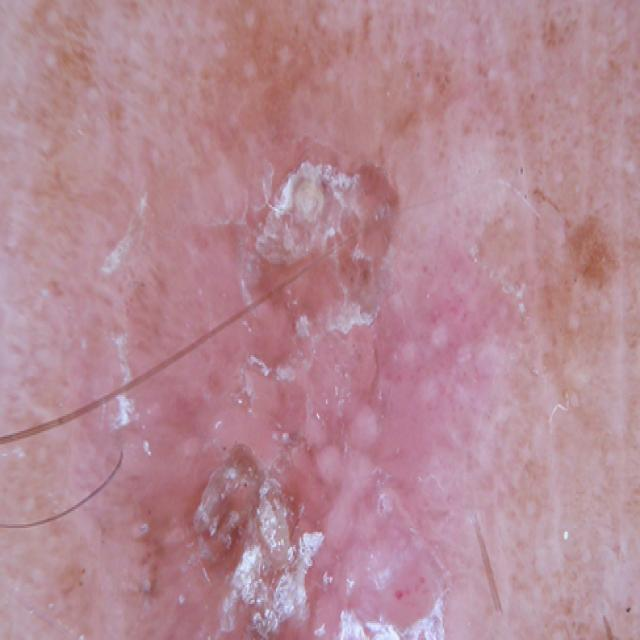Carcinoma: (66, 131, 565, 640)
